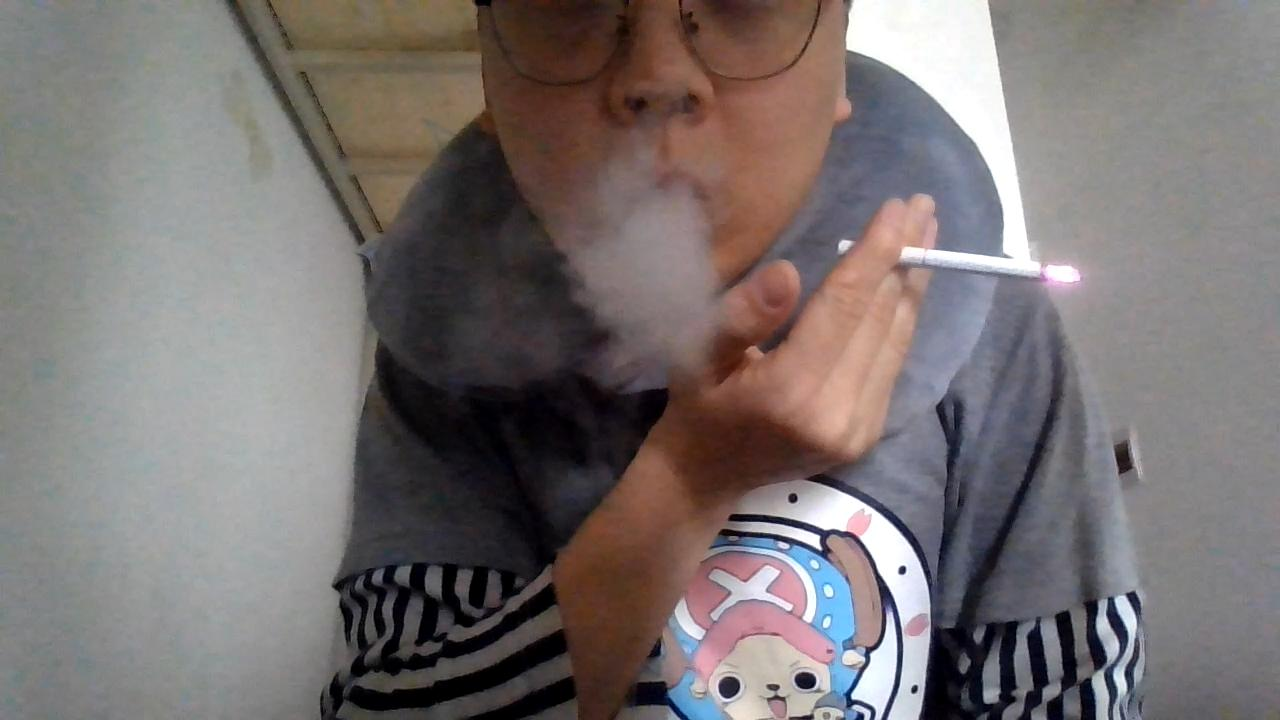smoke: (408, 183, 713, 383), (605, 127, 664, 174)
